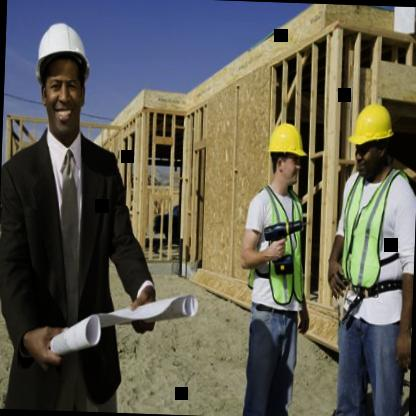helmet: (30, 7, 102, 152), (344, 94, 398, 182), (260, 112, 310, 202)
